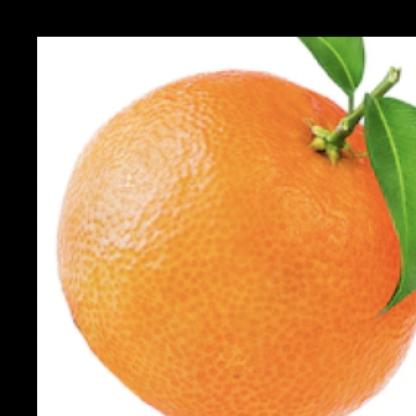fresh: (60, 71, 416, 416)
